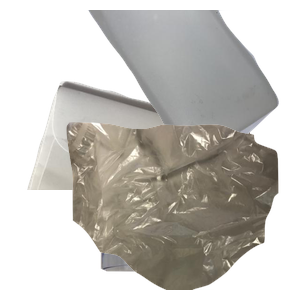glass: (98, 168, 251, 300)
paper: (25, 79, 265, 259)
plastic: (84, 10, 300, 157)
trash: (64, 120, 300, 300)
